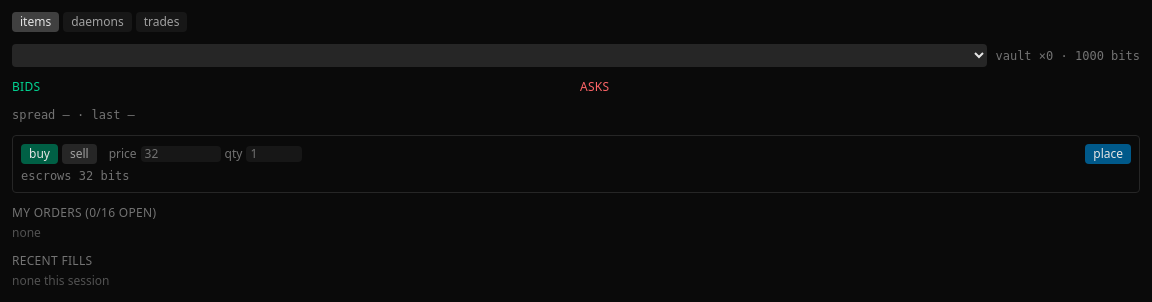
Exchange tab › has a trades view
The width and height of the screenshot is (1152, 302).
Click the button with test id "exchange-trades".
click(162, 22)  # box [136,12,187,32]
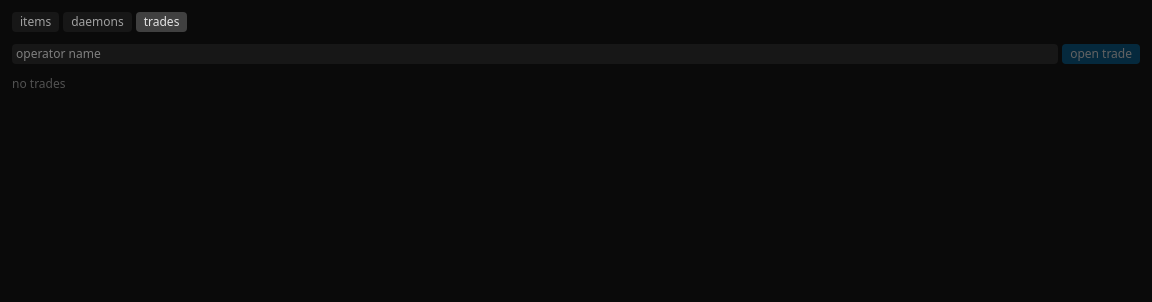
Result: the element with test id "trades" is shown at [12,44,1140,92]
Click the button with test id "exchange-items".
click(36, 22)  # box [12,12,59,32]
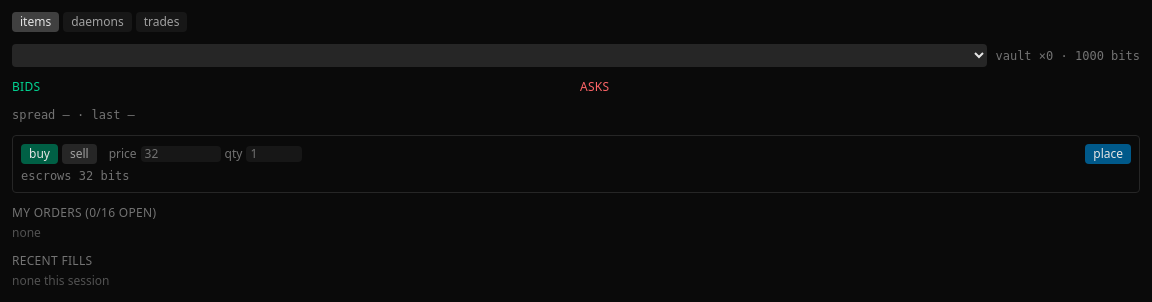
Result: the element with test id "trades" is gone
